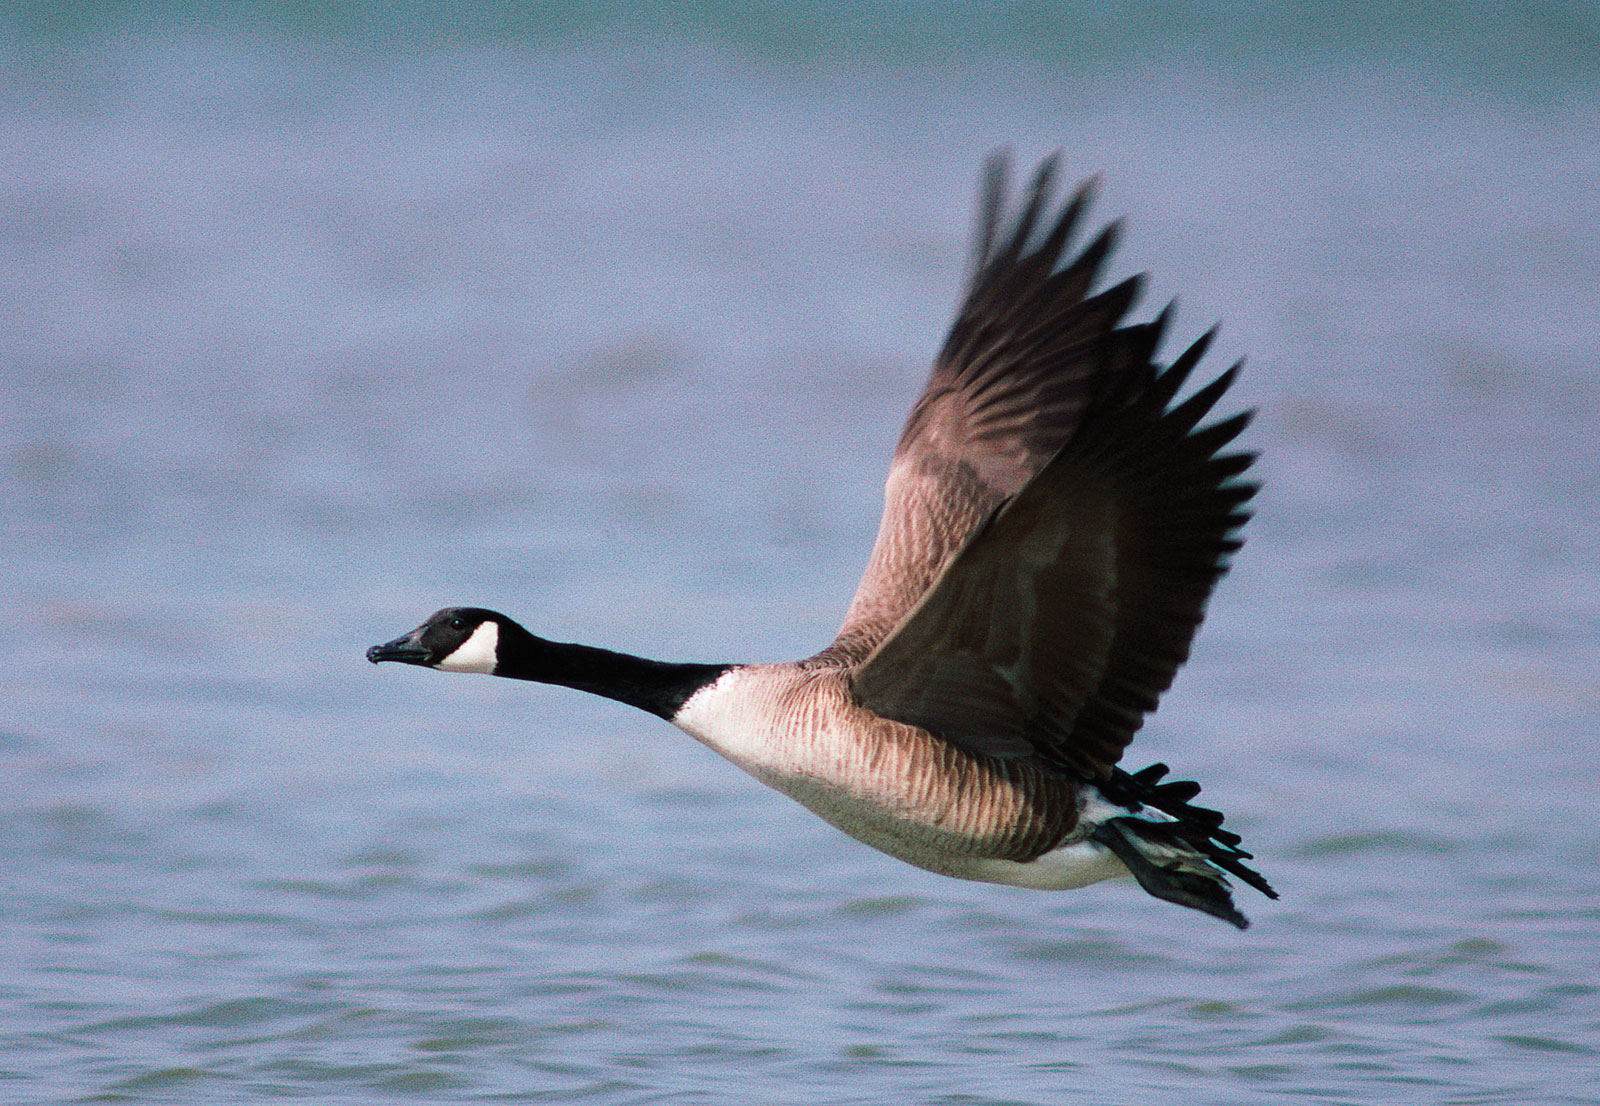bird: (303, 113, 1318, 933)
